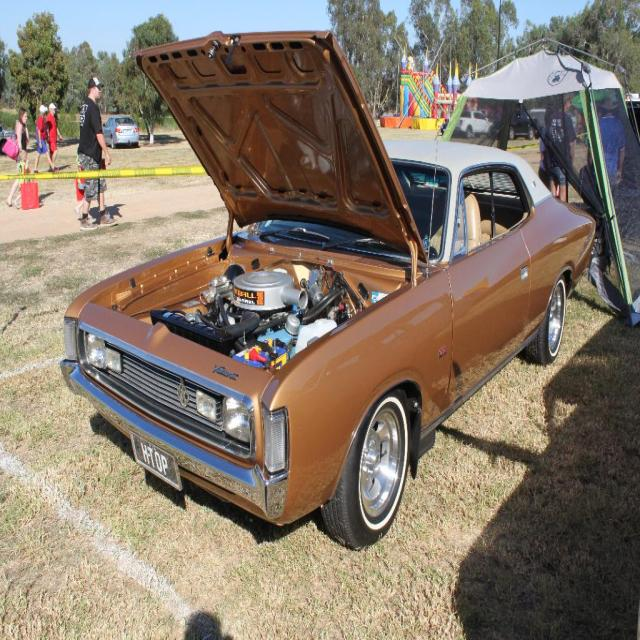car: (59, 24, 595, 548)
